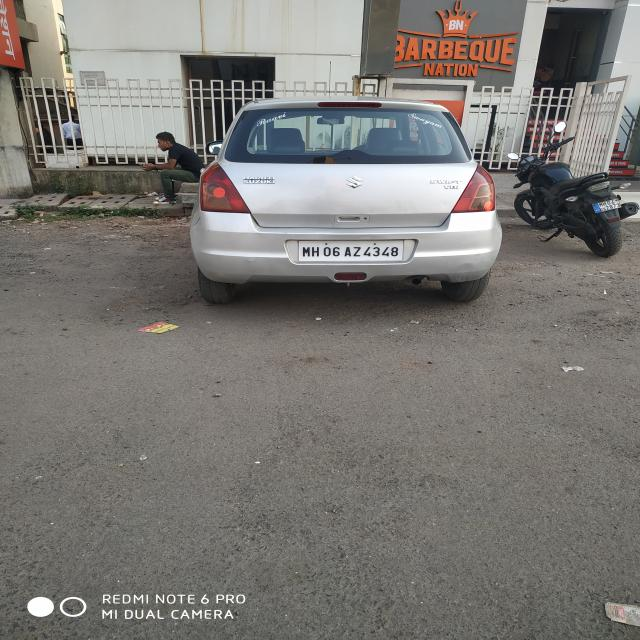Number-Plate: (303, 241, 405, 260)
